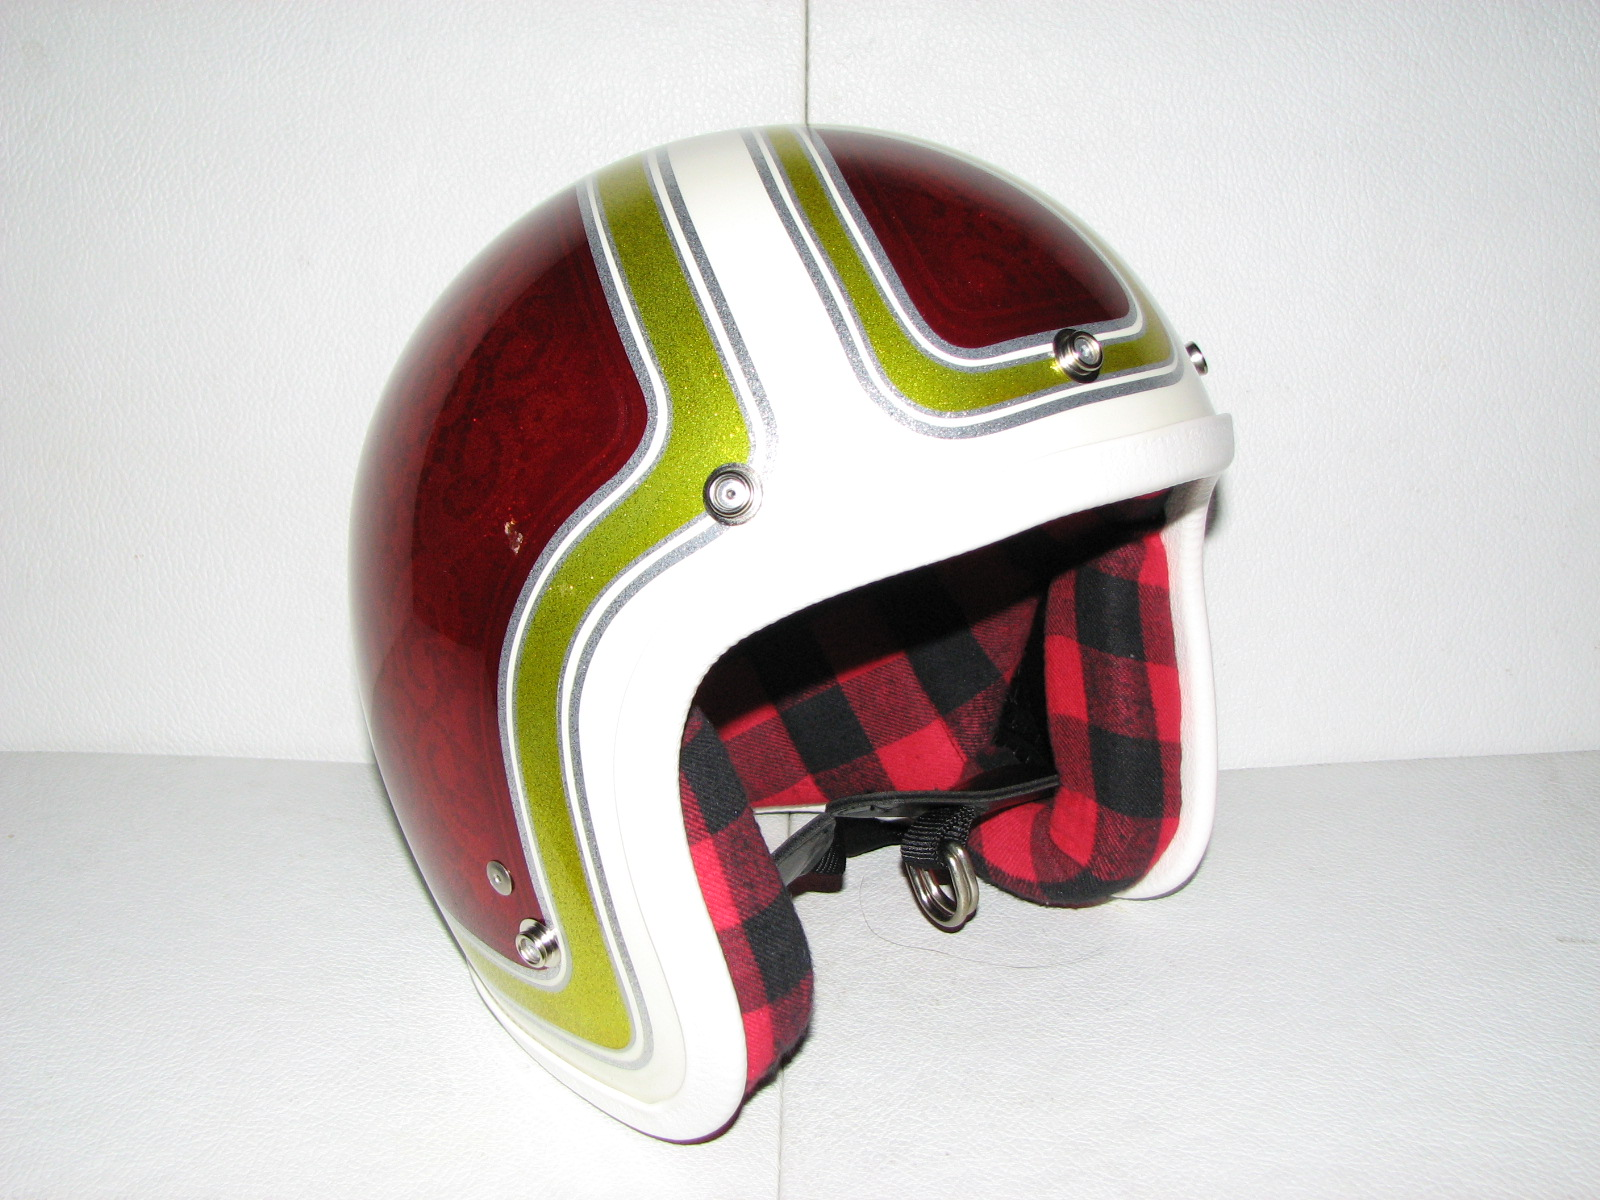with_helmet: (338, 111, 1245, 1166)
